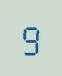nine: (19, 19, 40, 56)
